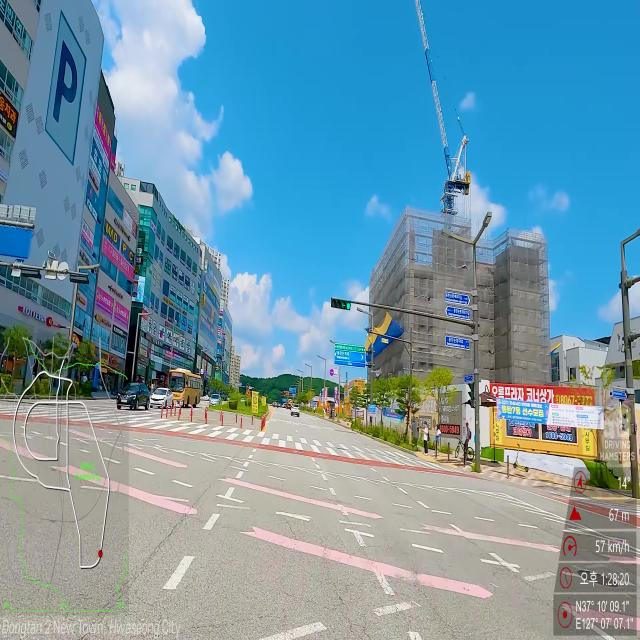Green Light: (346, 300, 351, 310)
